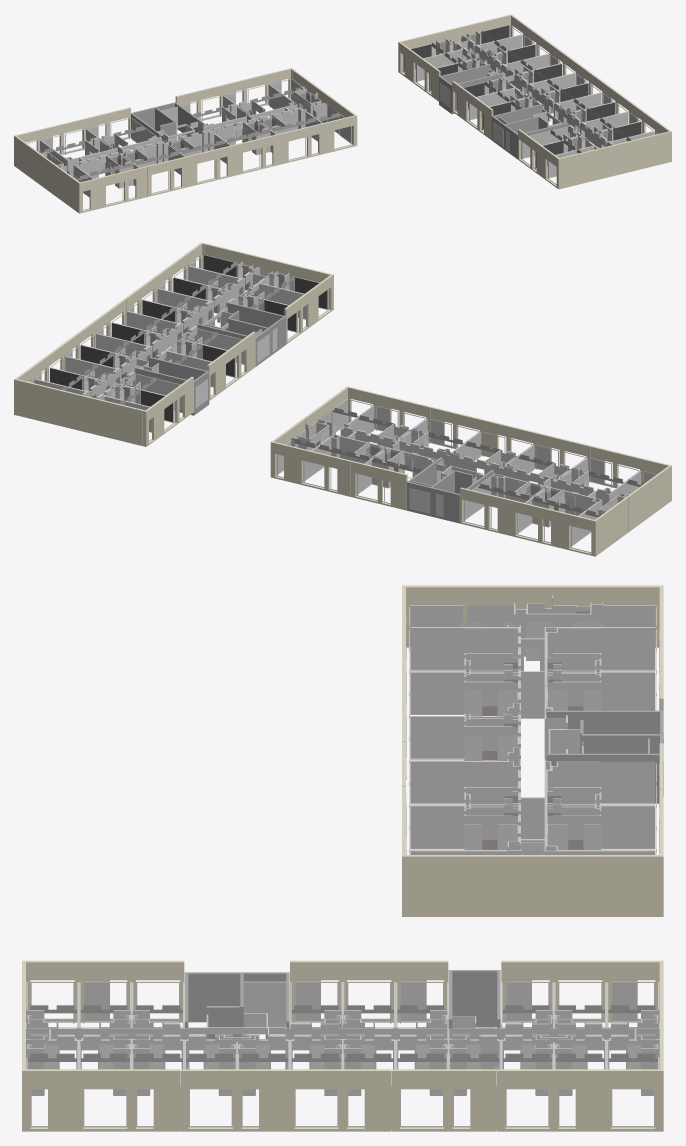
Rendered from model-part.gltf_walls_Piso 4.gltf.
3 views of the same model, one above another, from view 1: azimuth 30°, elevation 25°; view 2: azimuth 150°, elevation 25°; view 3: azimuth 270°, elevation 25° (orthographic). The views are drawn at different scales.
Size of the model in its own units: 65.53 by 4.18 by 36.61.
